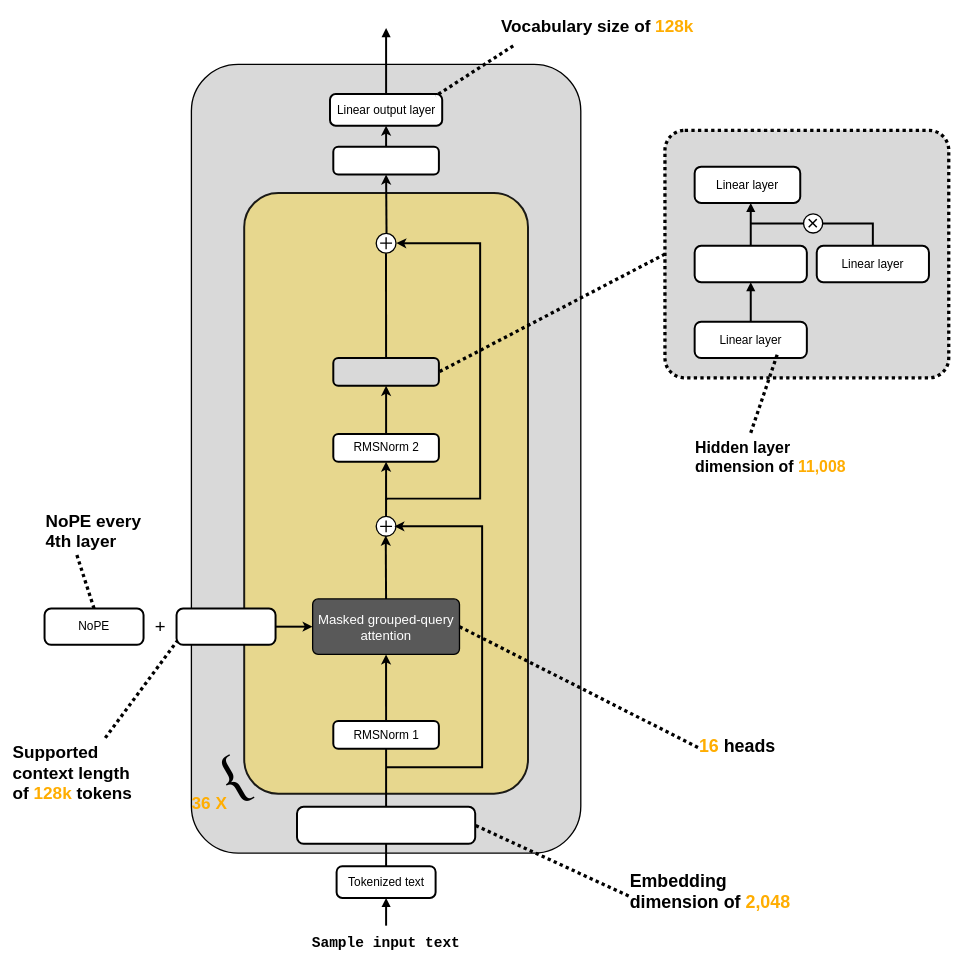
This 962x970 diagram has some shape labels left out. The centre of each missing label's shape, as x and y in pixels:
"Feed forward" goes at point (386, 371).
"Final RMSNorm" goes at point (386, 160).
"RoPE" goes at point (225, 626).
"SiLU activation" goes at point (750, 264).
"Token embedding layer" goes at point (386, 825).
